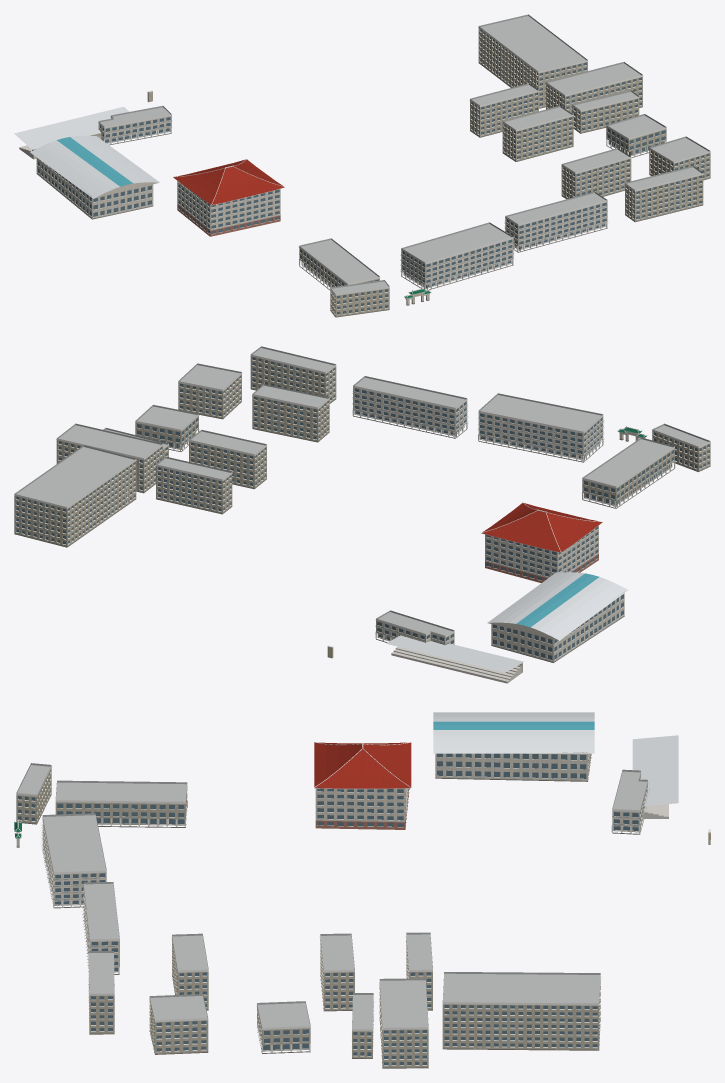
File: d05_sports_living_lod0.glb
3 renders of one model, top to bottom at view 1: azimuth 30°, elevation 25°; view 2: azimuth 150°, elevation 25°; view 3: azimuth 270°, elevation 25°, orthographic. The views are drawn at different scales.
Visible parts, largest first — view 1: gymnasium, dorm_f, dorm_m_north, south_annex_w, south_annex_e, dorm_se_b, dorm_m_mid2, dorm_m_east1, dorm_se_a, canteen3, dorm_m_mid1, west_sports_annex (+5 smaller); view 2: dorm_m_north, gymnasium, dorm_f, south_annex_w, south_annex_e, canteen3, dorm_se_a, dorm_m_mid1, stadium_grandstand, dorm_se_b, dorm_m_mid2, dorm_m_east1 (+4 smaller); view 3: dorm_m_north, gymnasium, dorm_f, canteen3, south_annex_w, dorm_m_east1, east_hall_se, stadium_grandstand, canteen1, dorm_m_mid2, south_annex_e, dorm_se_b (+5 smaller).
Part boxes in pixels (box(x1,y1,x2,y2)): gymnasium: box(30, 135, 159, 219); dorm_f: box(173, 159, 284, 236); dorm_m_north: box(478, 14, 588, 108); south_annex_w: box(400, 222, 513, 290); south_annex_e: box(504, 191, 607, 252); dorm_se_b: box(624, 166, 703, 222); dorm_m_mid2: box(502, 105, 573, 161); dorm_m_east1: box(545, 62, 643, 113); dorm_se_a: box(561, 148, 631, 199); canteen3: box(299, 238, 379, 290); dorm_m_mid1: box(469, 83, 539, 137); west_sports_annex: box(98, 105, 172, 145); dorm_m_north: box(14, 445, 136, 547); gymnasium: box(487, 572, 628, 662); dorm_f: box(481, 502, 602, 582); south_annex_w: box(478, 393, 604, 462); south_annex_e: box(352, 376, 468, 438); canteen3: box(582, 437, 675, 508); dorm_se_a: box(252, 384, 329, 442); dorm_m_mid1: box(156, 456, 232, 514); stadium_grandstand: box(327, 635, 524, 683); dorm_se_b: box(250, 346, 336, 403); dorm_m_mid2: box(189, 429, 266, 489); dorm_m_east1: box(56, 423, 163, 493); dorm_m_north: box(442, 972, 601, 1050); gymnasium: box(433, 712, 594, 781); dorm_f: box(314, 742, 411, 829); canteen3: box(55, 780, 187, 827); south_annex_w: box(40, 813, 106, 908); dorm_m_east1: box(379, 978, 428, 1068); east_hall_se: box(149, 994, 208, 1054); stadium_grandstand: box(632, 735, 710, 844); canteen1: box(256, 1001, 310, 1053); dorm_m_mid2: box(320, 933, 354, 1011); south_annex_e: box(81, 882, 119, 974); dorm_se_b: box(88, 951, 114, 1034).
Size of the model in its own units: 353 by 31.68 by 318.
15 materials, 7 textured.
